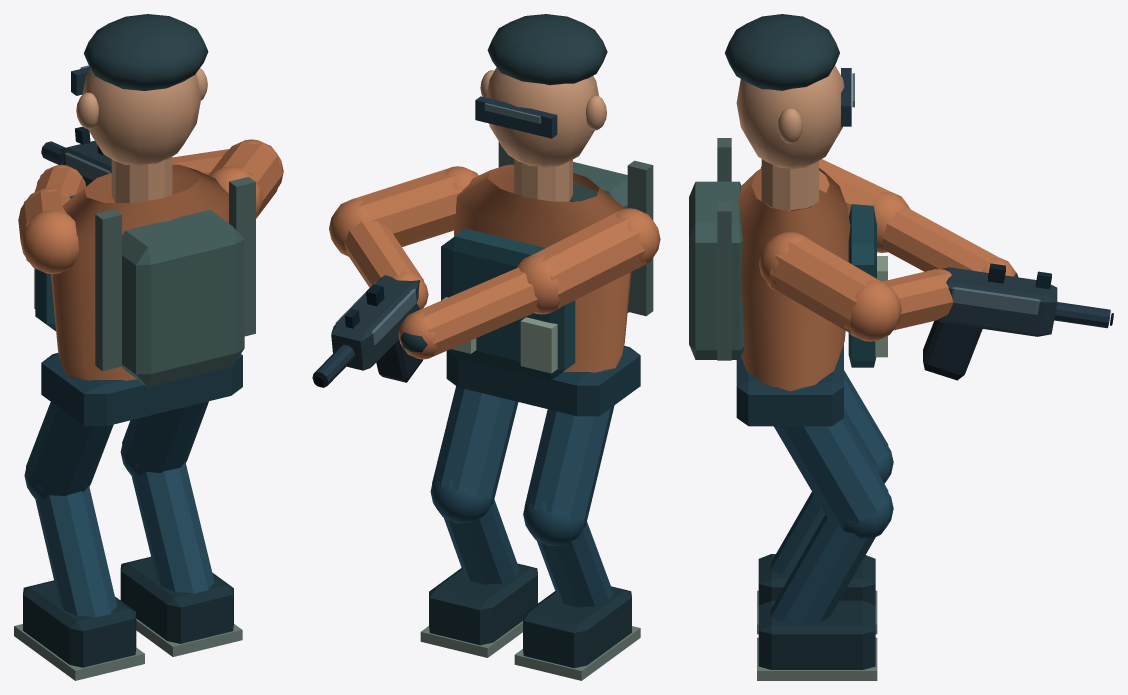
File: city-runner.glb
3 renders of one model, left to right at view 1: azimuth 30°, elevation 25°; view 2: azimuth 150°, elevation 25°; view 3: azimuth 270°, elevation 25°, orthographic. The views are drawn at different scales.
Visible parts, largest first — view 1: city-runner; view 2: city-runner; view 3: city-runner.
Part boxes in pixels (x1=…): city-runner: x1=14, y1=14, x2=283, y2=680; city-runner: x1=312, y1=14, x2=660, y2=680; city-runner: x1=689, y1=14, x2=1113, y2=680.
Size of the model in its own units: 1.06 by 2.15 by 1.34.
